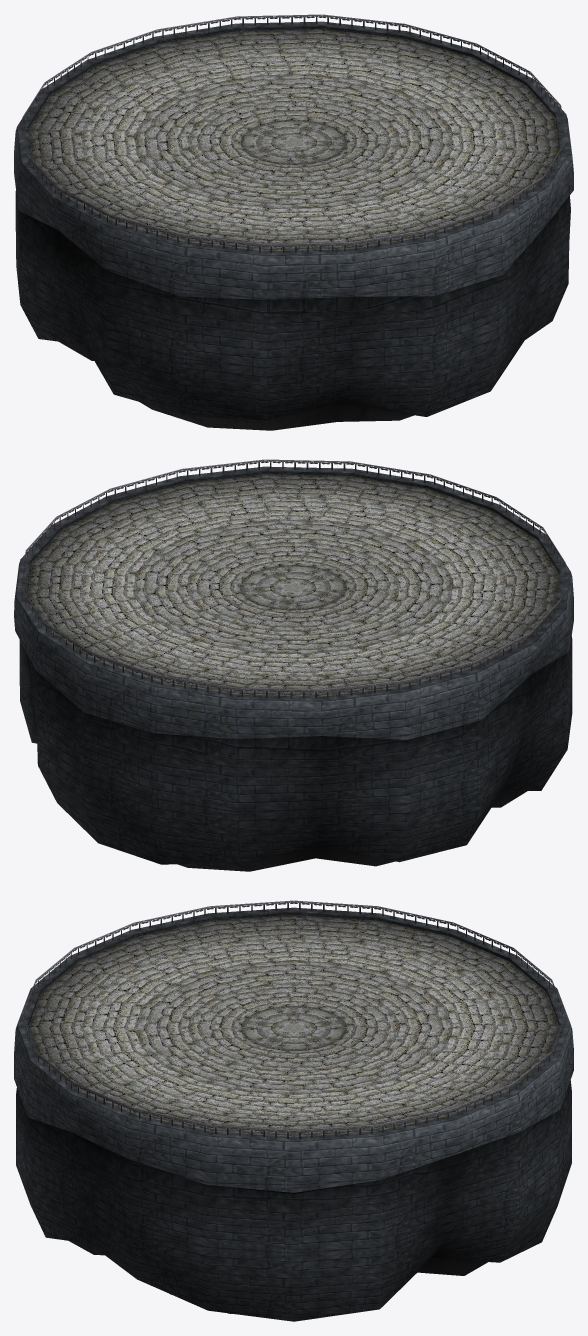
The model's file is polta_planet.glb.
3 renders of one model, top to bottom at view 1: azimuth 30°, elevation 25°; view 2: azimuth 150°, elevation 25°; view 3: azimuth 270°, elevation 25°, orthographic.
Visible parts, largest first — view 1: m2, m3, m0, m1; view 2: m2, m3, m0, m1; view 3: m2, m3, m0, m1.
Boxes of the visible parts, x1,y1,x2,y2 form: m2: (14, 21, 573, 420); m3: (28, 29, 559, 251); m0: (22, 14, 565, 253); m1: (42, 339, 423, 430); m2: (14, 466, 573, 864); m3: (27, 474, 559, 696); m0: (21, 459, 565, 698); m1: (178, 789, 533, 871); m2: (14, 907, 573, 1321); m3: (28, 915, 559, 1137); m0: (22, 900, 565, 1138); m1: (69, 1241, 496, 1313).
Bounding box in the file's own units: 52.66 × 22.44 × 52.81.
Materials: 4 (4 with a texture image).
